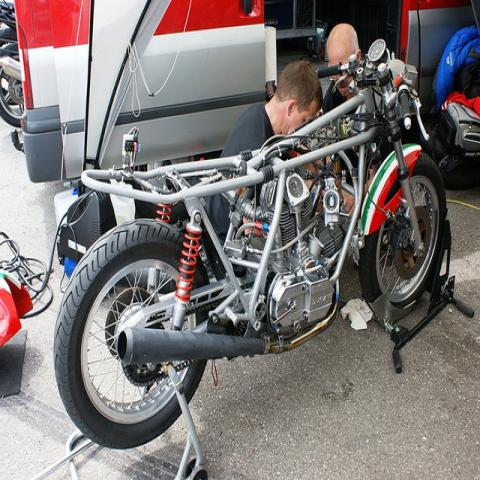motorcycle: (54, 34, 457, 474)
truck: (14, 1, 478, 187)
